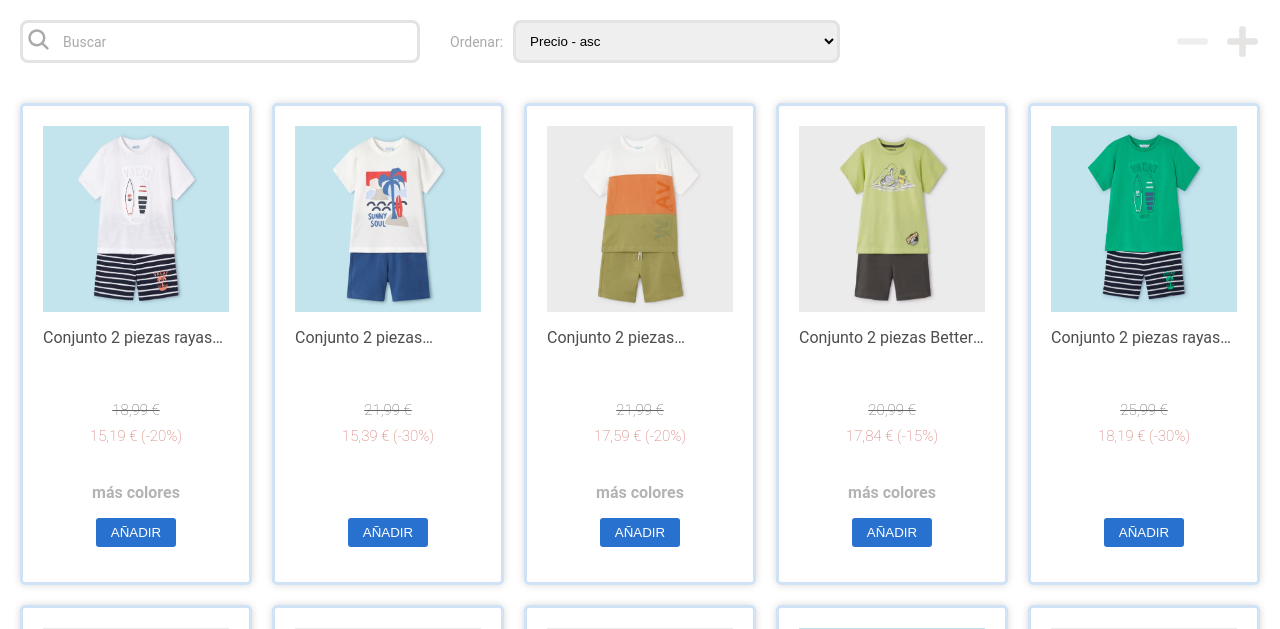
it: Clothes List tests › Search clothes
Type "3" into the field at [238, 42], box [61,32,414,50]
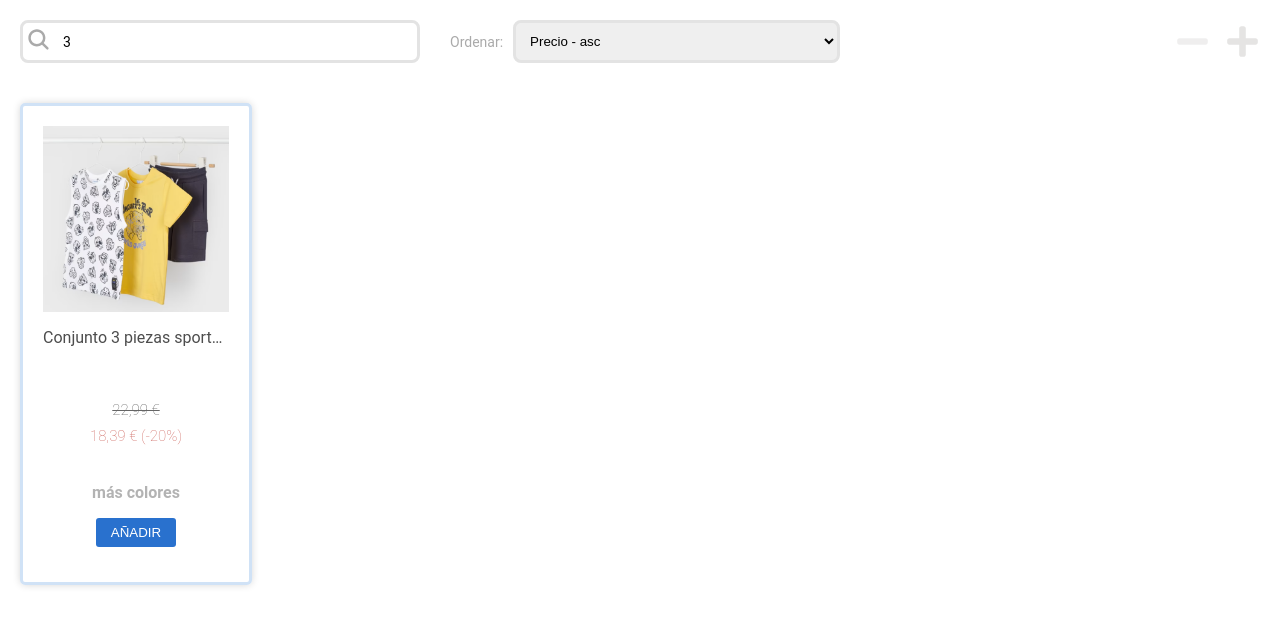
Expected: the text "Conjunto 3 piezas sport Better Cotton niño" is shown, [43,328,229,347]
Replace the text in the field with "Test" at [238, 42], box [61,32,414,50]
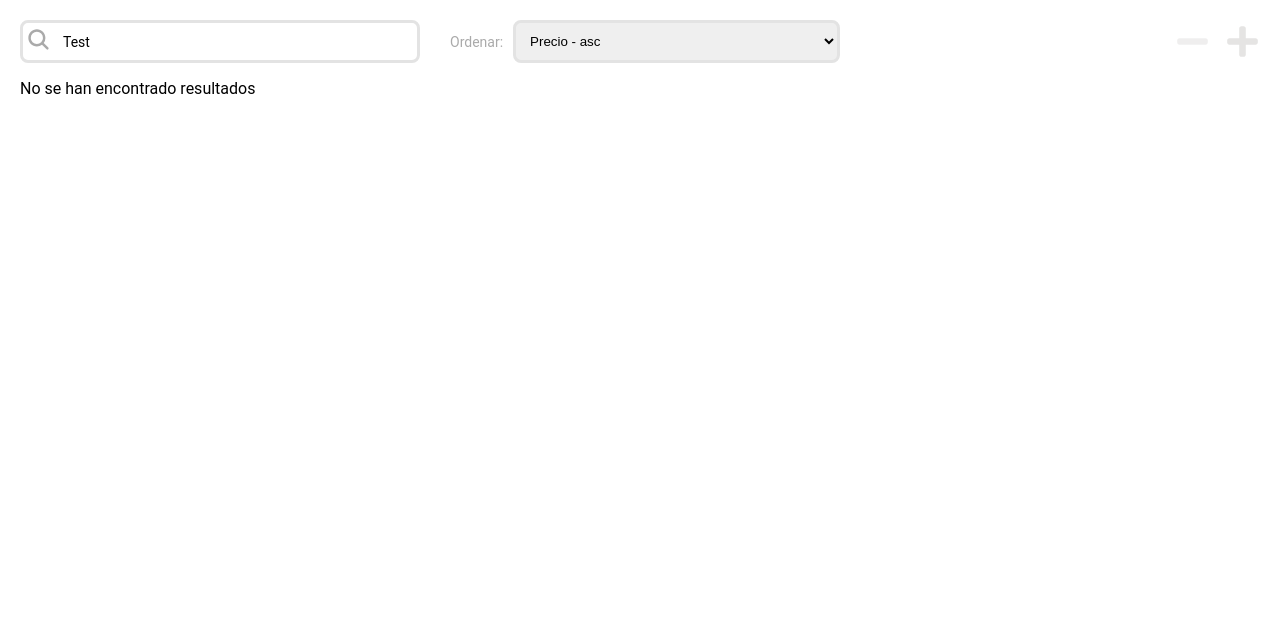
Expected: the text "No se han encontrado resultados" is shown, [20,79,255,98]
